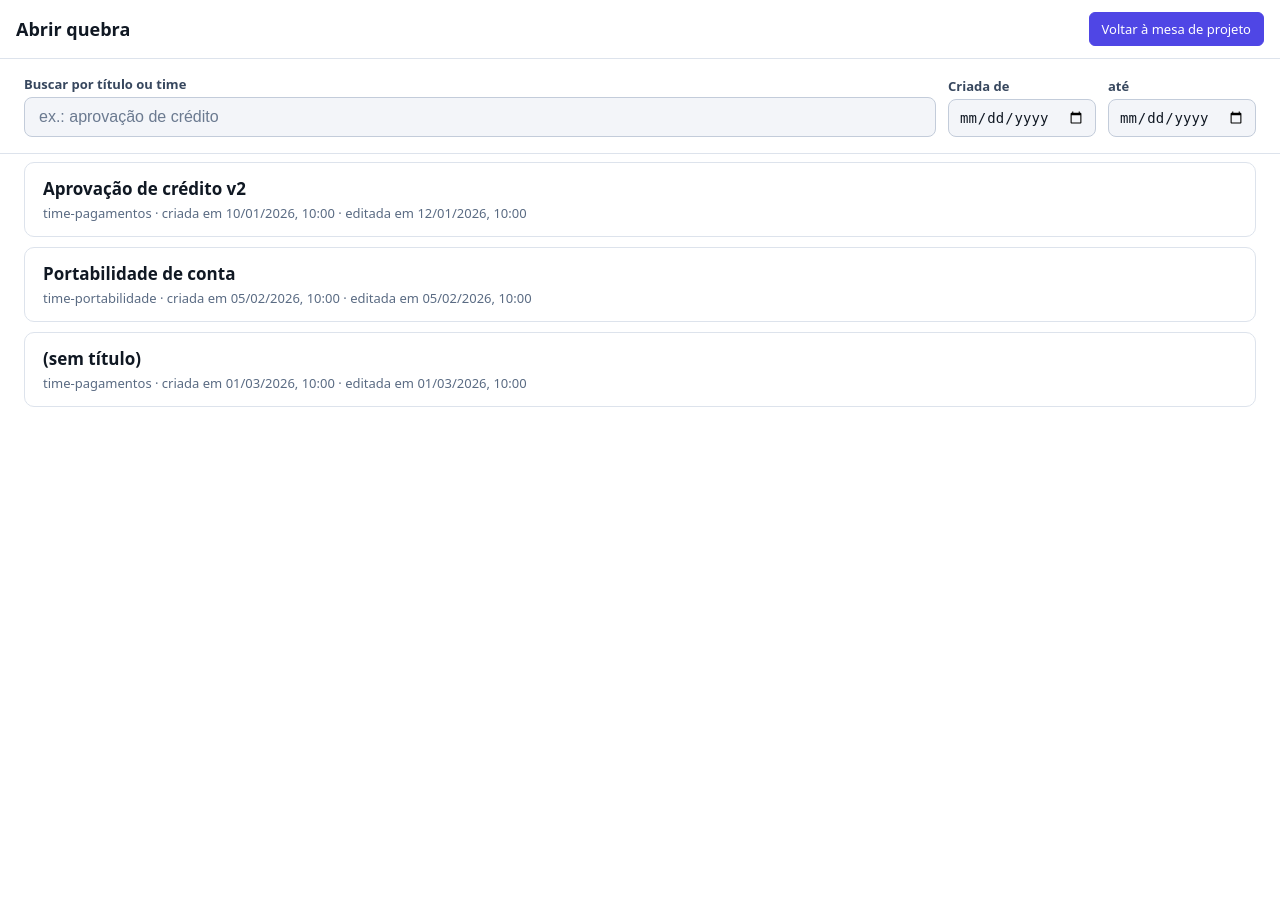
Test: AbrirQuebraScreen › filtro de data de criação usa criadoEm, não atualizadoEm
Step 1. Type "2026-02-01" into the date field labelled "Criada de" → (1022, 118), box [948,99,1096,137]
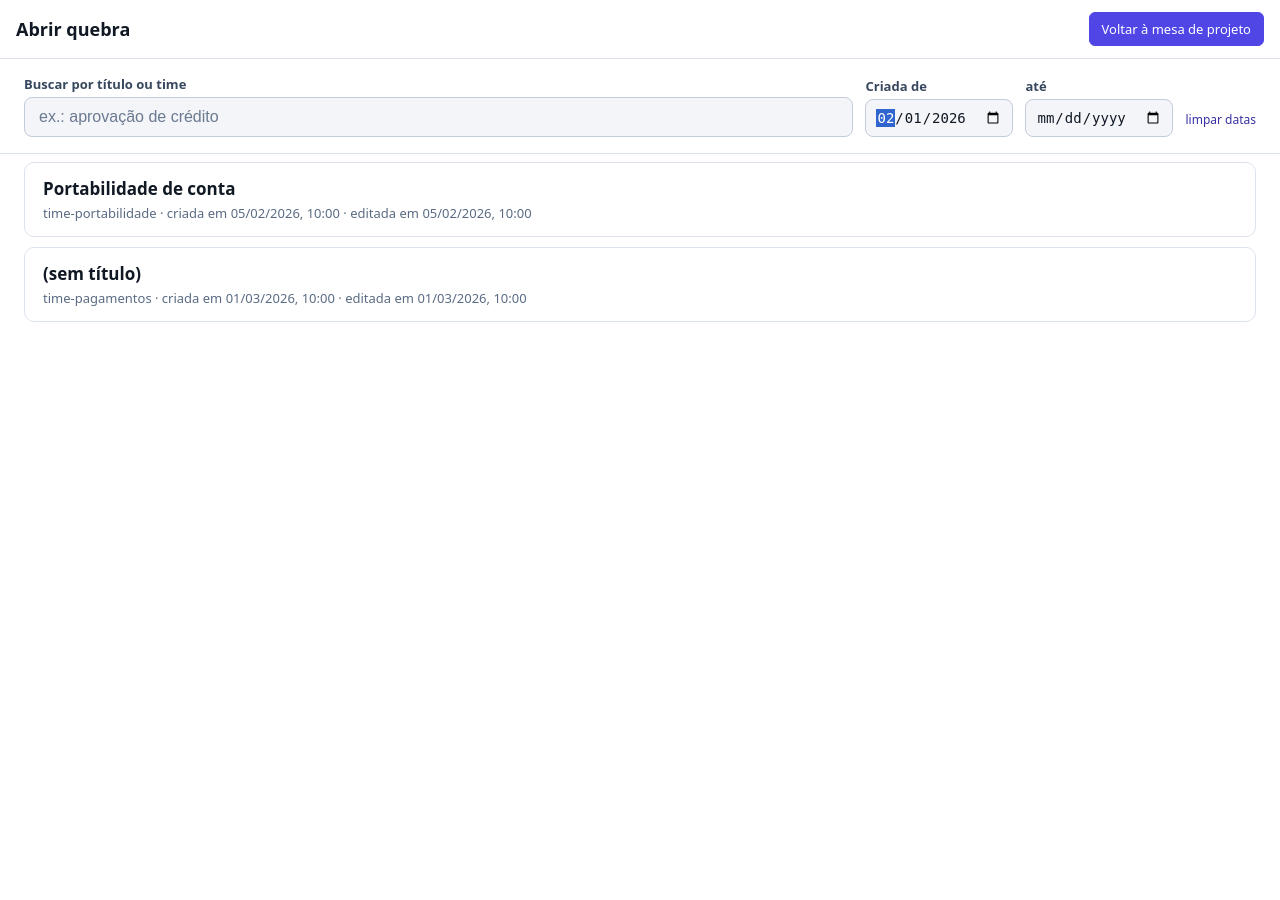
Expected: the text "Portabilidade de conta" is shown, [43,177,236,200]
Now the button "Aprovação de crédito v2" is gone
